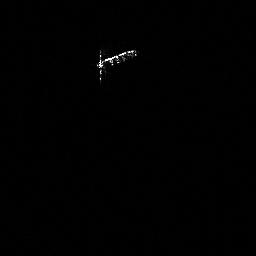ship: (92, 46, 139, 82)
